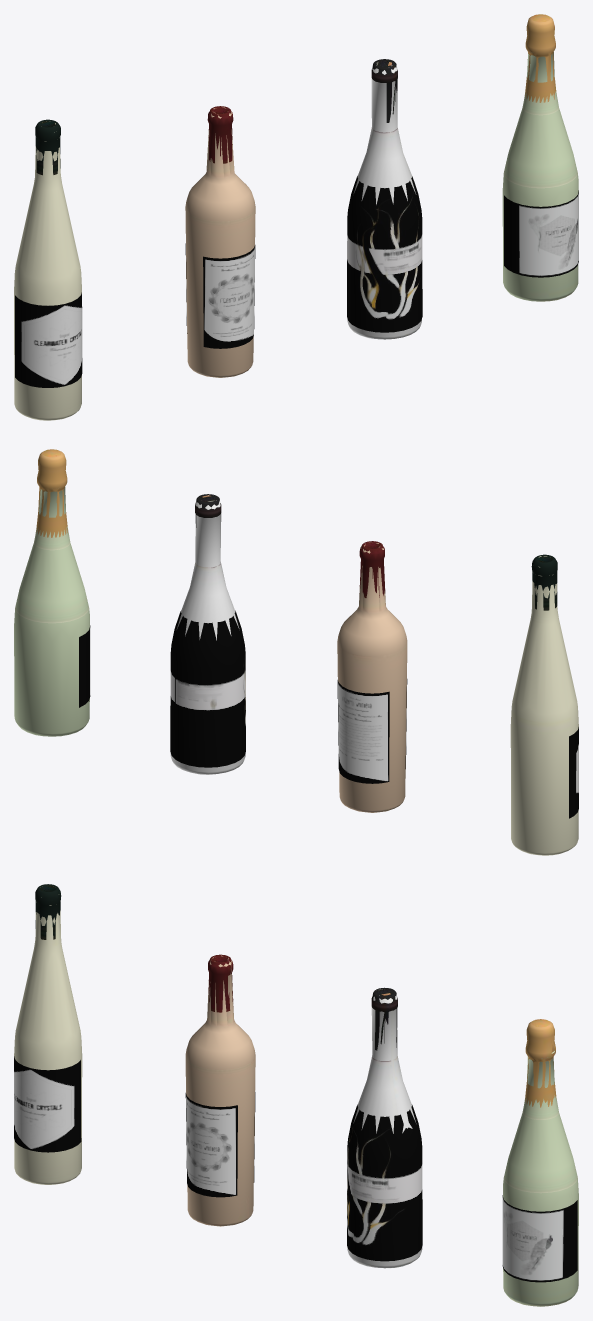
Rendered from bottles.glb.
3 renders of one model, top to bottom at view 1: azimuth 30°, elevation 25°; view 2: azimuth 150°, elevation 25°; view 3: azimuth 330°, elevation 25°, orthographic.
Parts seen in each view (by area): view 1: wine_bottles_01_champagne, wine_bottles_01_alsace, wine_bottles_01_burgundy, wine_bottles_01_bordeaux; view 2: wine_bottles_01_champagne, wine_bottles_01_alsace, wine_bottles_01_burgundy, wine_bottles_01_bordeaux; view 3: wine_bottles_01_champagne, wine_bottles_01_alsace, wine_bottles_01_burgundy, wine_bottles_01_bordeaux.
Part boxes in pixels (bbox=[...]): wine_bottles_01_champagne: bbox=[502, 14, 578, 301]; wine_bottles_01_alsace: bbox=[14, 119, 82, 420]; wine_bottles_01_burgundy: bbox=[347, 59, 422, 339]; wine_bottles_01_bordeaux: bbox=[185, 106, 255, 377]; wine_bottles_01_champagne: bbox=[14, 449, 90, 736]; wine_bottles_01_alsace: bbox=[510, 554, 578, 855]; wine_bottles_01_burgundy: bbox=[170, 494, 245, 774]; wine_bottles_01_bordeaux: bbox=[337, 541, 407, 812]; wine_bottles_01_champagne: bbox=[502, 1019, 578, 1306]; wine_bottles_01_alsace: bbox=[14, 884, 82, 1184]; wine_bottles_01_burgundy: bbox=[347, 987, 422, 1268]; wine_bottles_01_bordeaux: bbox=[185, 954, 255, 1226].
Bounding box in the file's own units: 0.6763 × 0.3314 × 0.0805.
9 materials, 6 textured.
